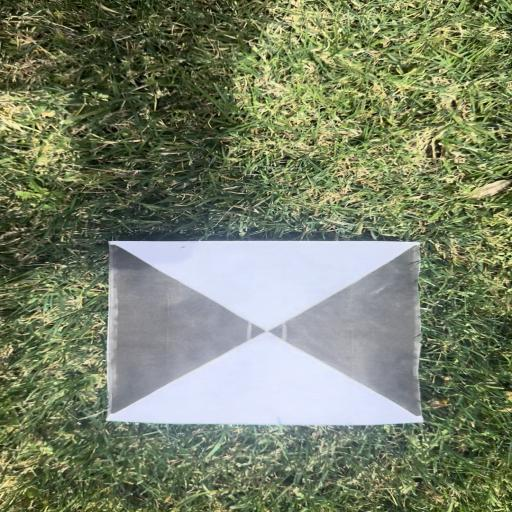target: (109, 241, 422, 422)
